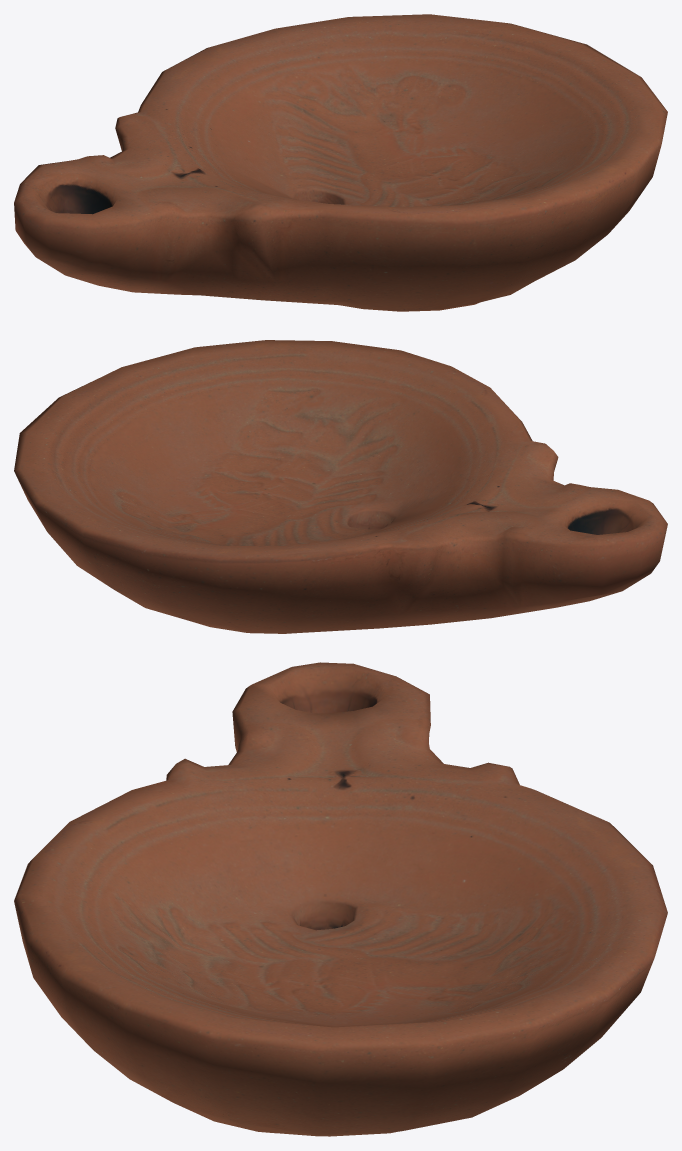
File: lamp-classical.glb
The picture shows the model from 3 angles, top to bottom: view 1: azimuth 30°, elevation 25°; view 2: azimuth 150°, elevation 25°; view 3: azimuth 270°, elevation 25°; orthographic projection. The views are drawn at different scales.
Visible parts, largest first — view 1: Object_2; view 2: Object_2; view 3: Object_2.
Part boxes in pixels (left/top/right/bottom): Object_2: left=14, top=14, right=667, bottom=311; Object_2: left=14, top=340, right=667, bottom=633; Object_2: left=14, top=662, right=667, bottom=1136.
Size of the model in its own units: 0.1144 by 0.026 by 0.0846.
1 material, 1 textured.
